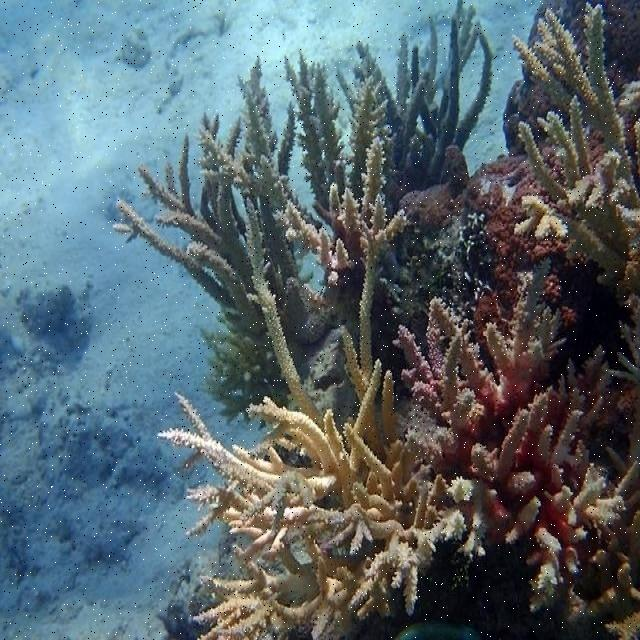reefs: (113, 0, 639, 639)
